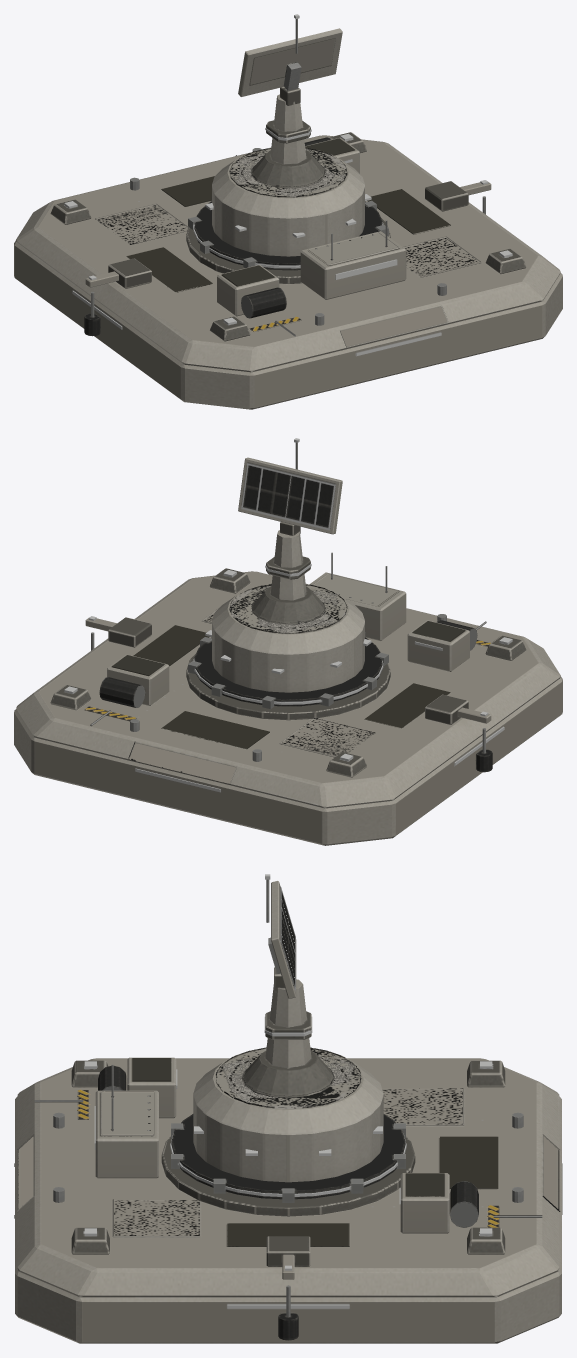
Rendered from ord_choir.fbx.
3 renders of one model, top to bottom at view 1: azimuth 30°, elevation 25°; view 2: azimuth 150°, elevation 25°; view 3: azimuth 270°, elevation 25°, orthographic. The views are drawn at different scales.
Parts seen in each view (by area): view 1: base_bar, ring_bar, base_glow_running_bar; view 2: base_bar, ring_bar, base_glow_running_bar, ring_glow_power_bar; view 3: base_bar, ring_bar, base_glow_running_bar, ring_glow_power_bar.
Boxes of the visible parts, x1,y1,x2,y2 form: base_bar: (14,18,562,409); ring_bar: (188,196,388,270); base_glow_running_bar: (64,14,512,356); base_bar: (14,442,562,845); ring_bar: (188,632,388,709); base_glow_running_bar: (64,438,512,792); ring_glow_power_bar: (193,658,383,704); base_bar: (15,879,561,1343); ring_bar: (171,1114,405,1202); base_glow_running_bar: (14,874,562,1308); ring_glow_power_bar: (170,1133,406,1196).
Bounding box in the file's own units: 2384 × 1712 × 2249.
Materials: 2 (2 with a texture image).
